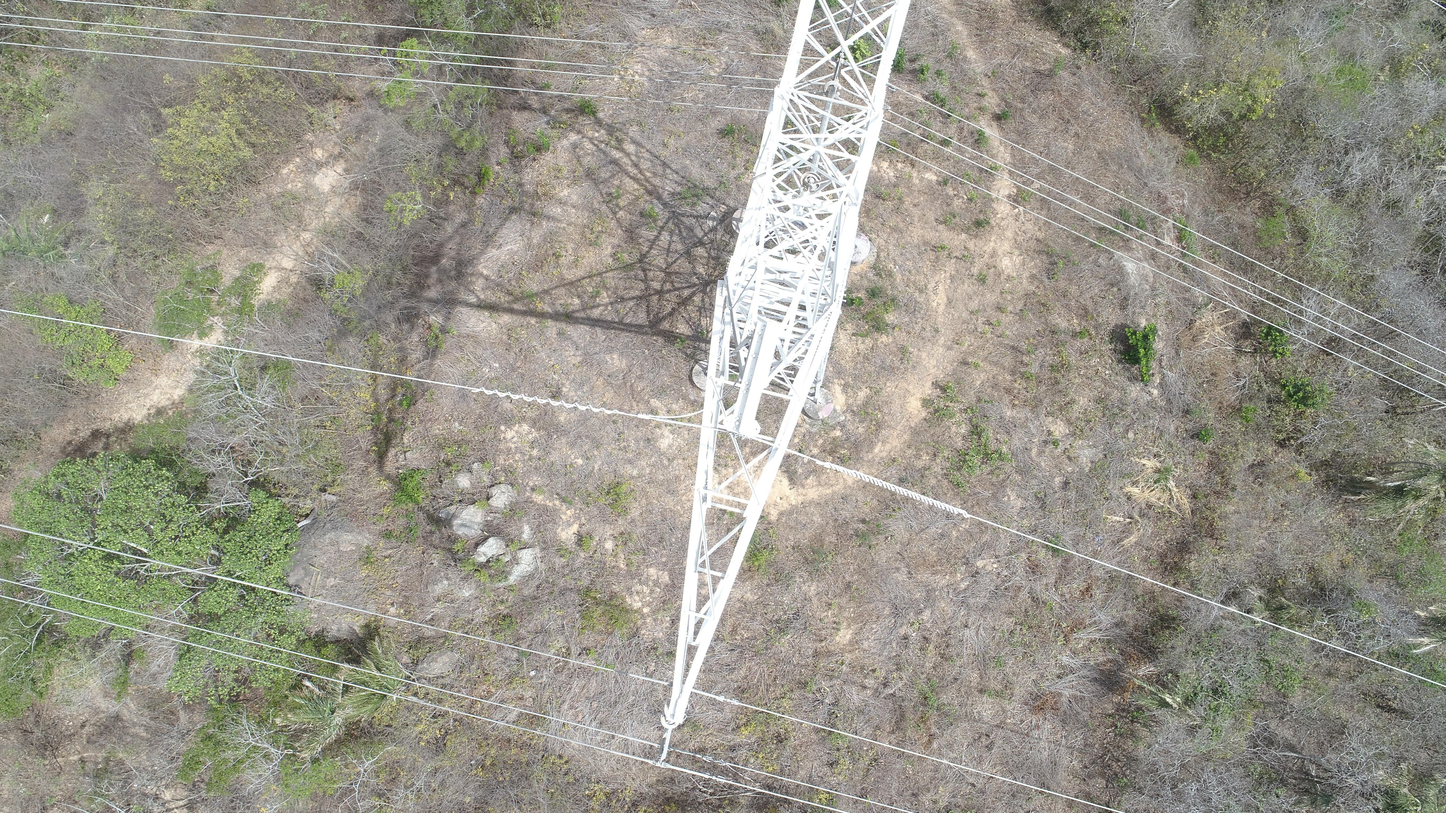power_tower: (657, 0, 915, 768)
